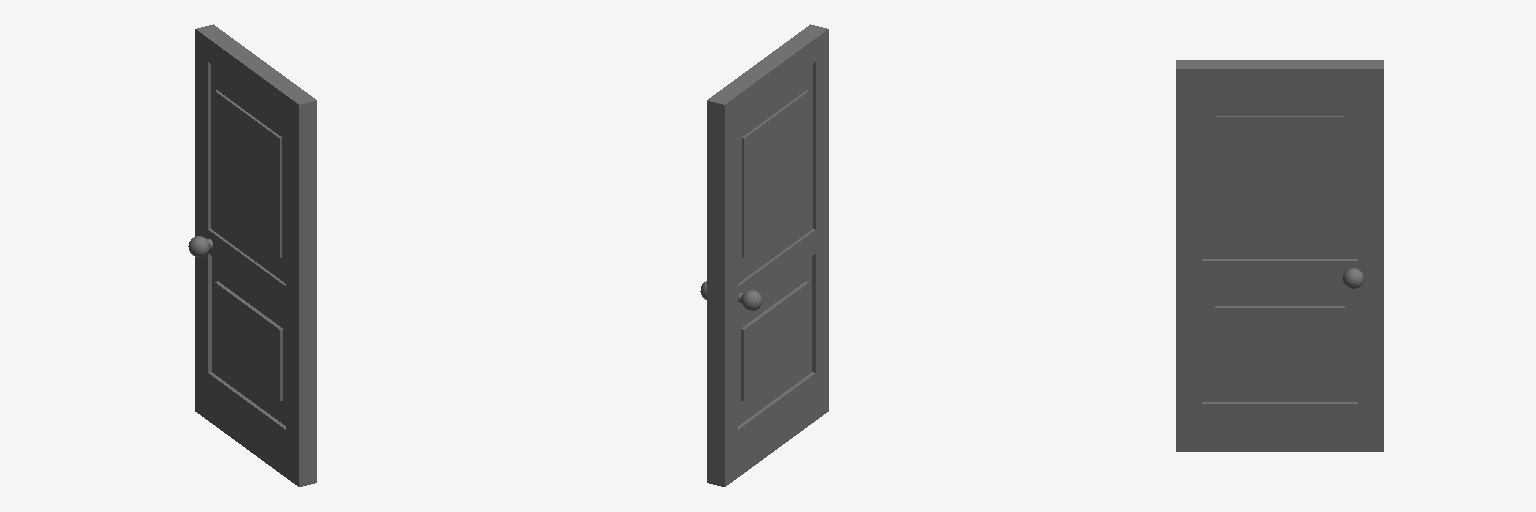
Rendered from door3.obj.
3 views of the same model, side by side, from view 1: azimuth 30°, elevation 25°; view 2: azimuth 150°, elevation 25°; view 3: azimuth 270°, elevation 25° (orthographic).
Parts seen in each view (by area): view 1: pasted__group3_pasted__pSphere1 group polySurface7; view 2: pasted__group3_pasted__pSphere1 group polySurface7; view 3: pasted__group3_pasted__pSphere1 group polySurface7.
Boxes of the visible parts, box(x1,y1,x2,y2) form: pasted__group3_pasted__pSphere1 group polySurface7: box(195, 24, 316, 486); pasted__group3_pasted__pSphere1 group polySurface7: box(707, 24, 828, 486); pasted__group3_pasted__pSphere1 group polySurface7: box(1176, 60, 1383, 451).
Size of the model in its own units: 0.3277 by 2.03 by 1.